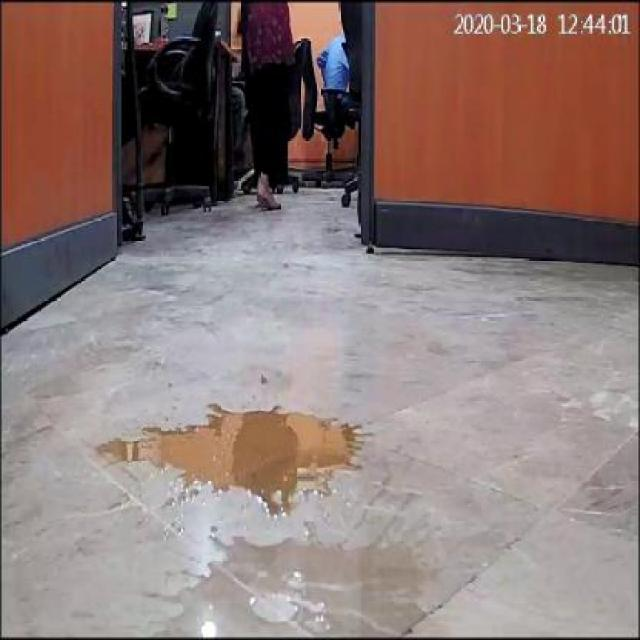spill: (95, 394, 377, 508), (142, 530, 430, 635)
